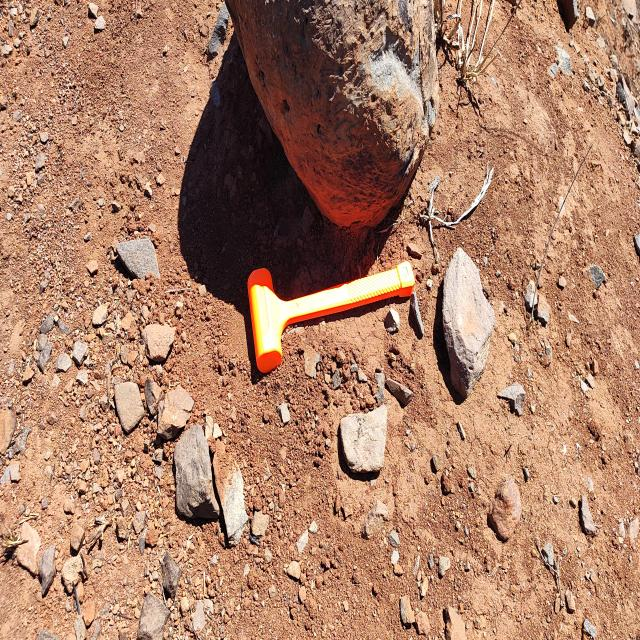Orange_hammer: (247, 259, 422, 374)
rock: (221, 0, 454, 233), (436, 309, 497, 404), (172, 421, 224, 529), (172, 424, 223, 523), (341, 412, 387, 479), (488, 468, 522, 538), (118, 242, 160, 282), (137, 591, 170, 640), (113, 380, 144, 432), (15, 519, 41, 579), (113, 386, 144, 431), (441, 468, 453, 504)
